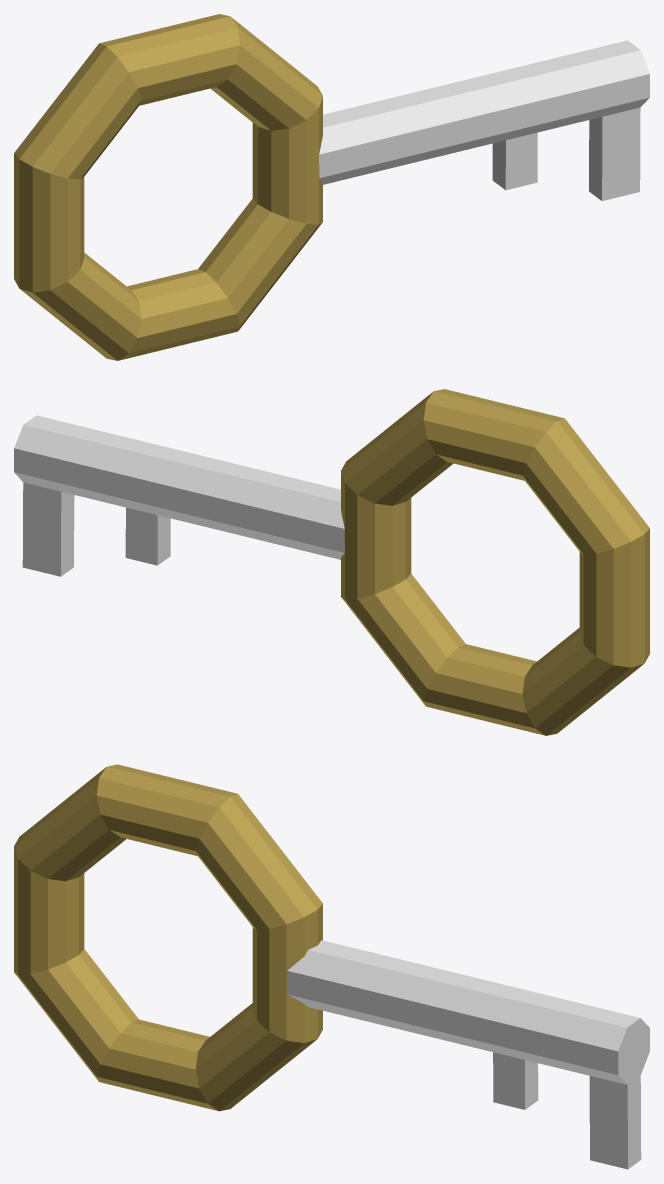
3 renders of one model, top to bottom at view 1: azimuth 30°, elevation 25°; view 2: azimuth 150°, elevation 25°; view 3: azimuth 330°, elevation 25°, orthographic.
Visible parts, largest first — view 1: Torus.001, Walec.001; view 2: Torus.001, Walec.001; view 3: Torus.001, Walec.001.
Boxes of the visible parts, box(x1,y1,x2,y2) form: Torus.001: box(14, 14, 322, 360); Walec.001: box(319, 40, 649, 200); Torus.001: box(341, 389, 649, 735); Walec.001: box(14, 415, 344, 576); Torus.001: box(14, 764, 322, 1111); Walec.001: box(287, 940, 649, 1169).
Bounding box in the file's own units: 476 × 231 × 50.
